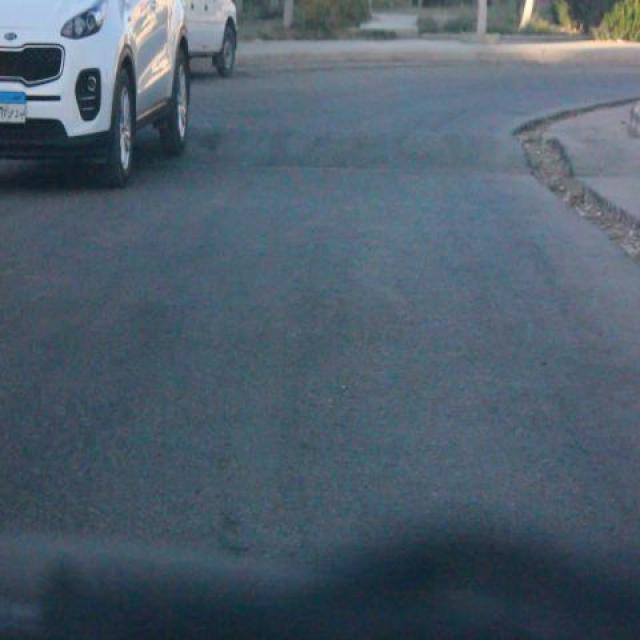Unmarked Bump: (187, 118, 533, 176)
